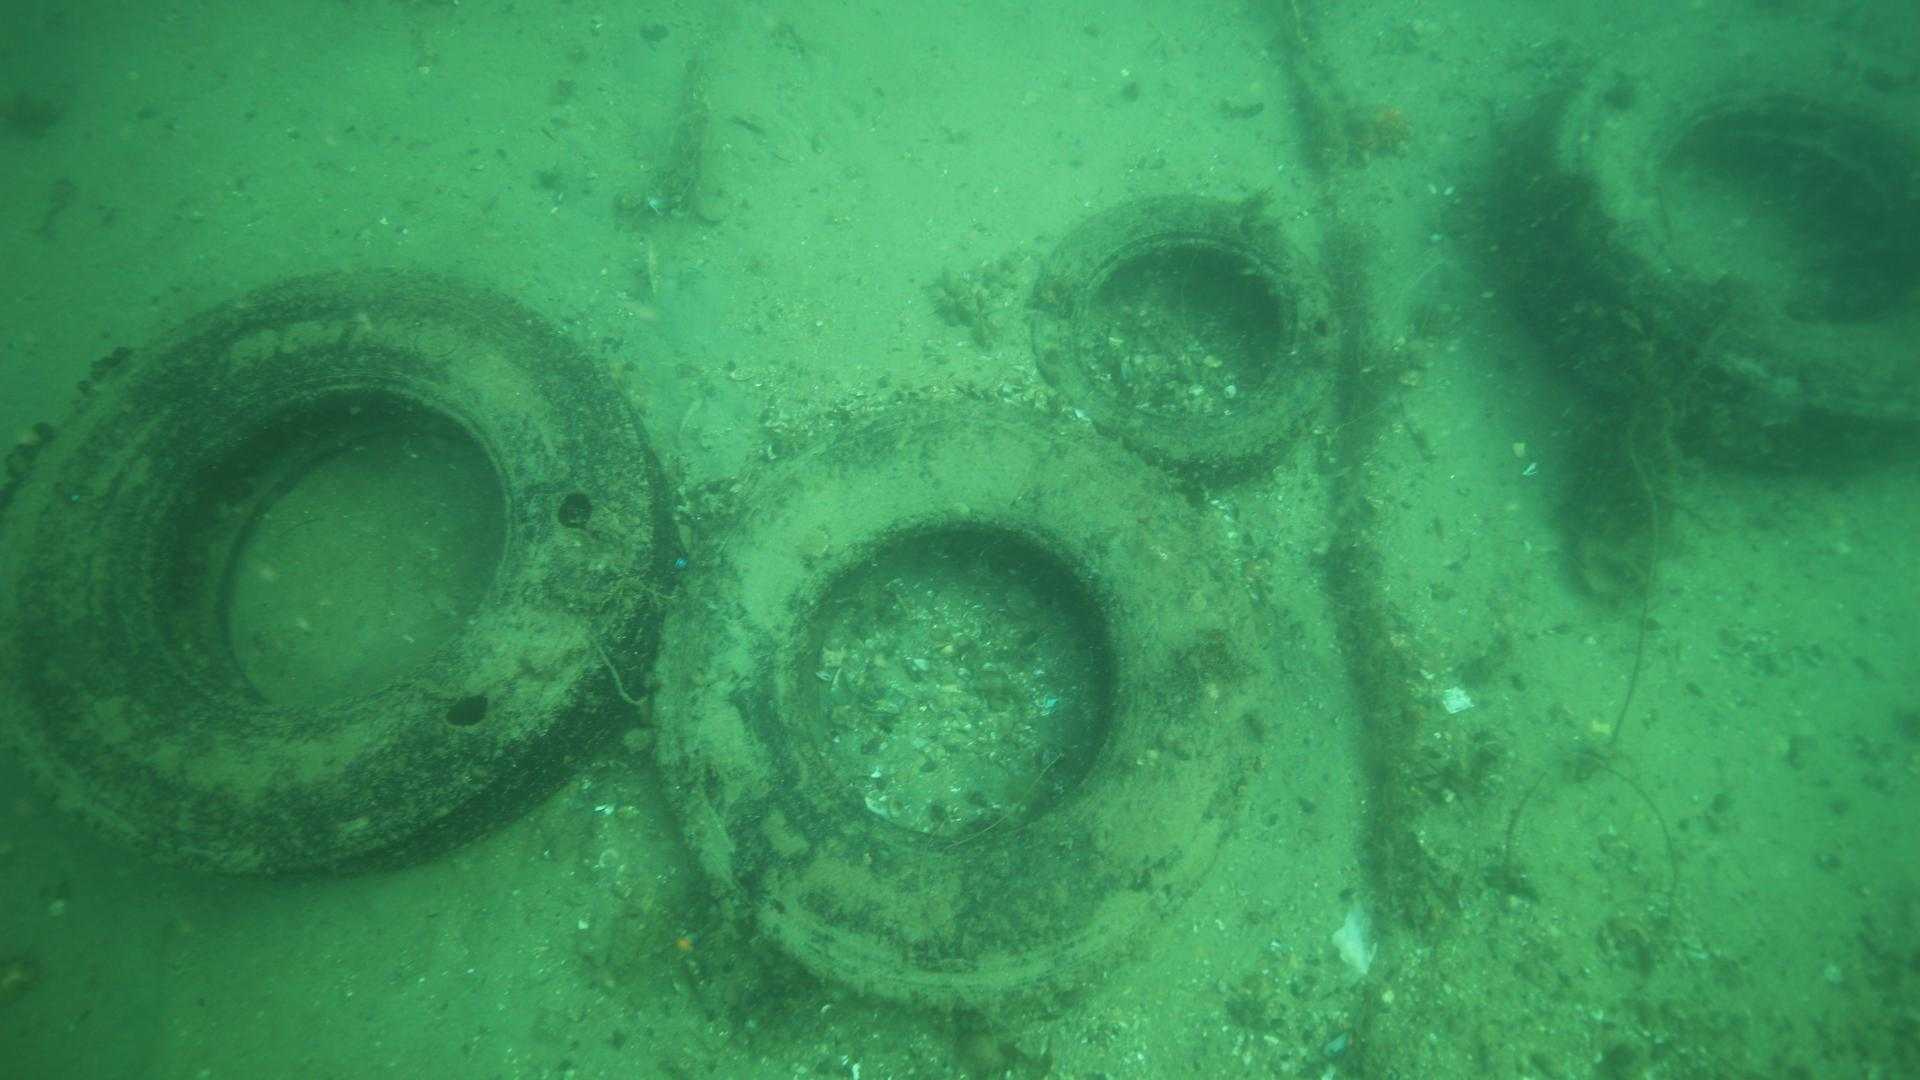tire: (7, 272, 673, 881), (642, 390, 1265, 1013), (1510, 11, 1920, 483), (1019, 196, 1342, 481)
